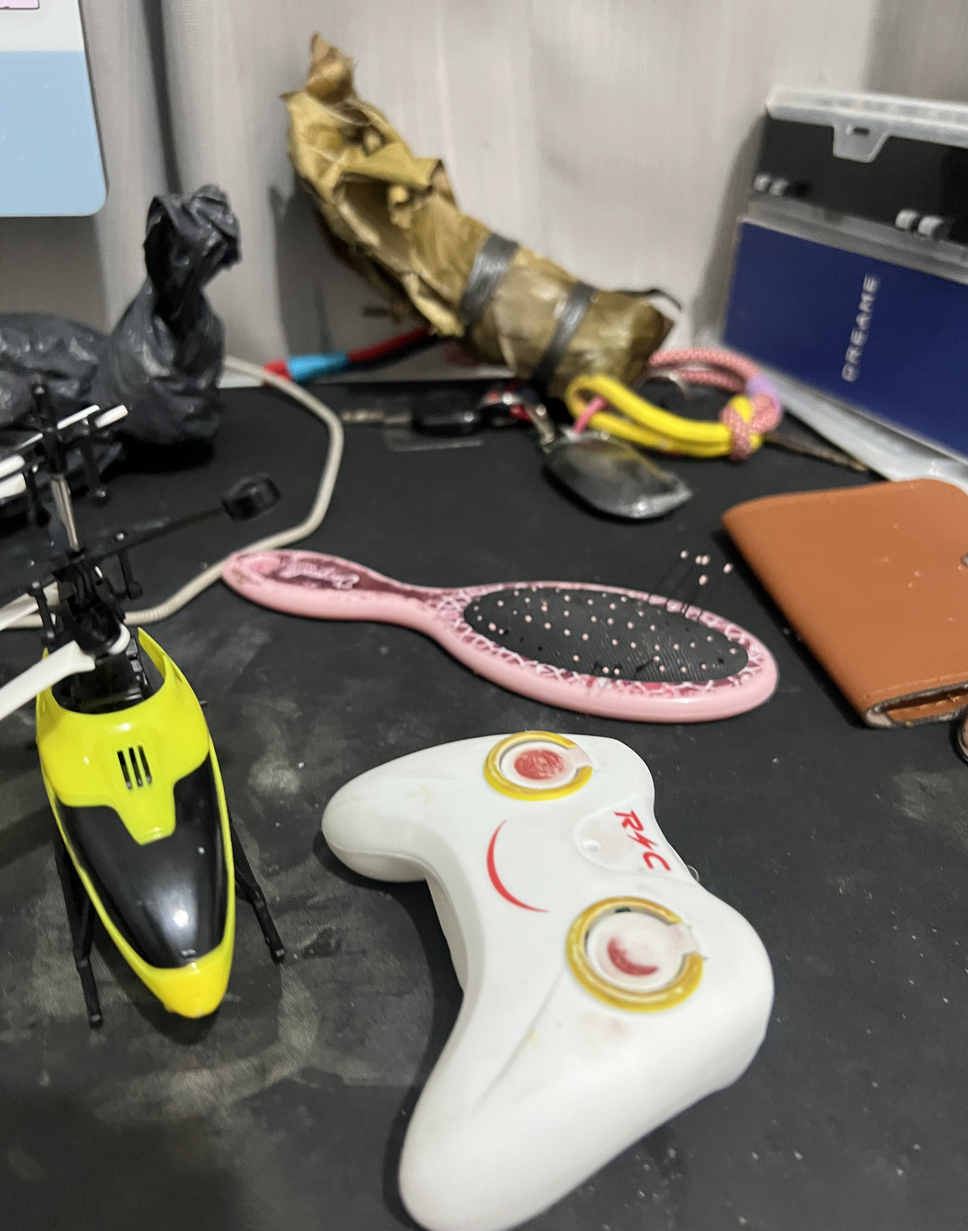gamepad: (307, 711, 803, 1231)
helikopter: (0, 443, 288, 1127)
jungkat: (201, 479, 819, 733)
